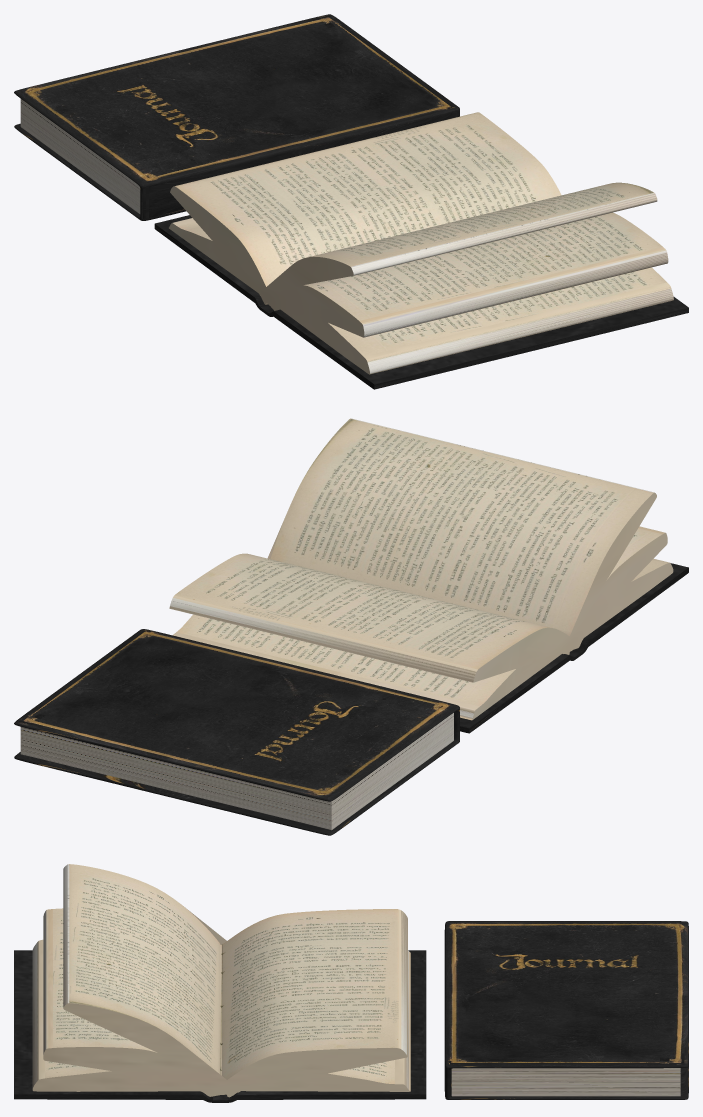
Rendered from book.fbx.fbx.
The picture shows the model from 3 angles, top to bottom: view 1: azimuth 30°, elevation 25°; view 2: azimuth 150°, elevation 25°; view 3: azimuth 270°, elevation 25°; orthographic projection. The views are drawn at different scales.
Visible parts, largest first — view 1: страницы развёрнутой книги, обложка книги сложенной, обложка книги развернутой, страницы сложенной книги; view 2: страницы развёрнутой книги, обложка книги сложенной, страницы сложенной книги, обложка книги развернутой; view 3: страницы развёрнутой книги, обложка книги сложенной, обложка книги развернутой, страницы сложенной книги.
Boxes of the visible parts, x1,y1,x2,y2 form: страницы развёрнутой книги: (169, 112, 673, 374); обложка книги сложенной: (14, 14, 459, 220); обложка книги развернутой: (154, 215, 688, 389); страницы сложенной книги: (20, 99, 140, 213); страницы развёрнутой книги: (169, 418, 673, 720); обложка книги сложенной: (14, 629, 459, 835); страницы сложенной книги: (20, 713, 453, 830); обложка книги развернутой: (460, 563, 688, 733); страницы развёрнутой книги: (32, 864, 410, 1097); обложка книги сложенной: (444, 921, 688, 1099); обложка книги развернутой: (14, 950, 426, 1102); страницы сложенной книги: (451, 1068, 680, 1096).
Bounding box in the file's own units: 23.61 × 7.33 × 46.03.
